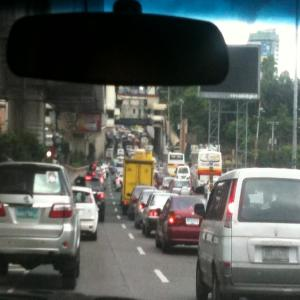Vehicle-registration-plate: (264, 247, 291, 263), (16, 208, 40, 221), (185, 218, 200, 228), (78, 210, 86, 220)
